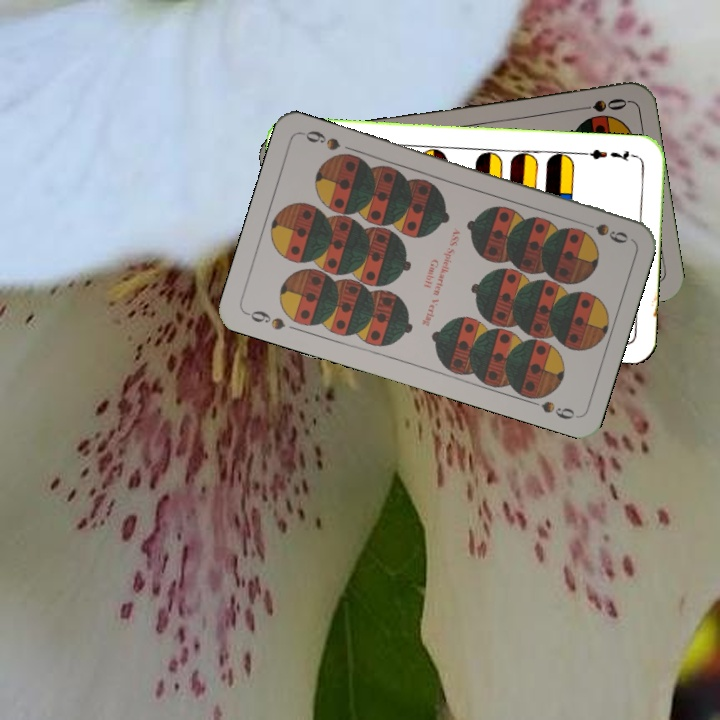E7: (580, 145, 639, 164)
S9: (574, 216, 631, 246), (242, 306, 288, 333)
SO: (570, 94, 630, 115)
